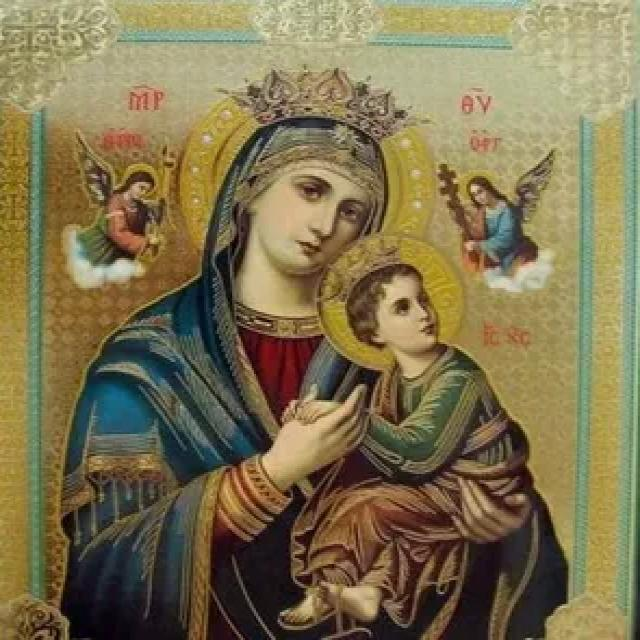mother of god: (61, 100, 564, 640)
